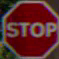Stop: (6, 5, 57, 47)
